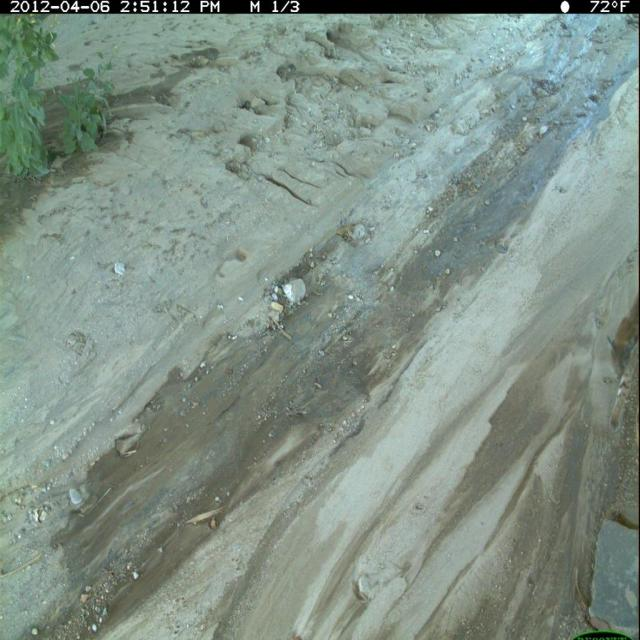bobcat: (606, 294, 639, 438)
